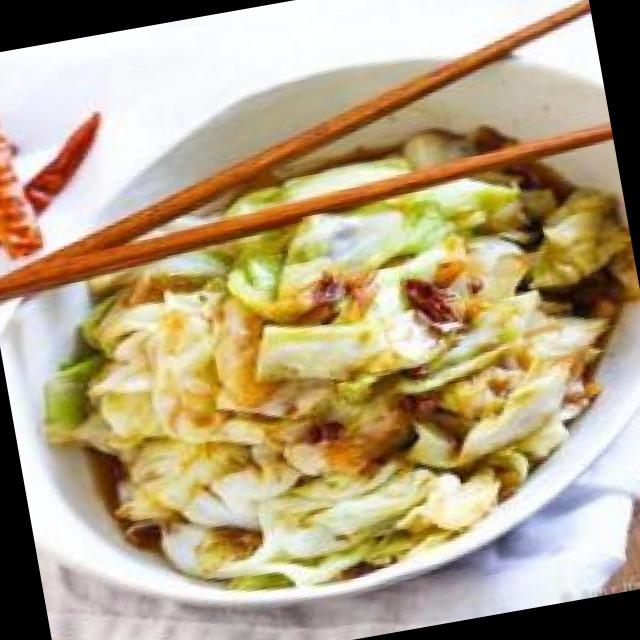chinese_cabbage: (24, 182, 616, 620)
